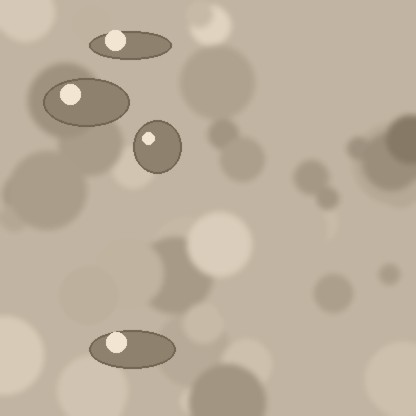gota: (43, 80, 129, 130), (89, 331, 175, 371), (133, 122, 181, 178), (89, 32, 171, 62)
